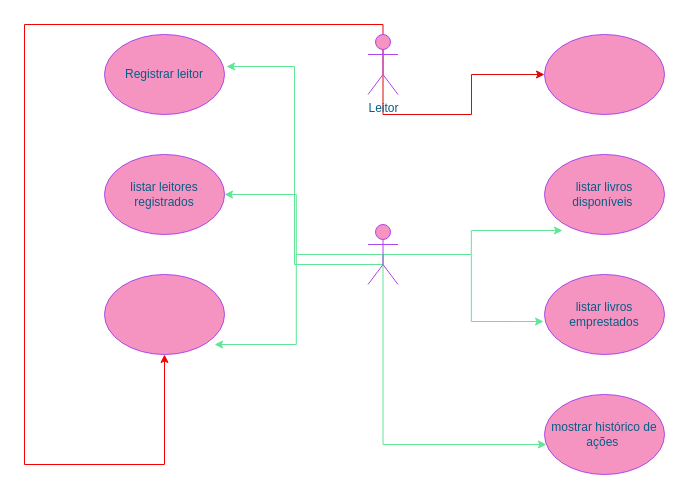
The diagram is 682 pixels wide and 492 high, and some of its shapes have lost their labels. Each missing label, with the centre of its shape:
Bibliotecário: point 382,254
realizar devolução de livros: point 604,74
realizar empréstimo de livros: point 164,314
